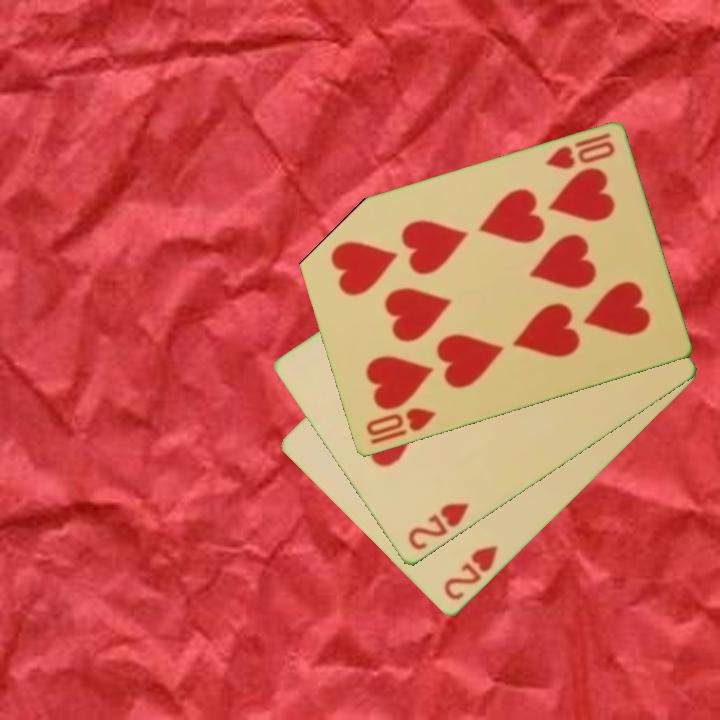10h: (542, 129, 618, 173), (362, 405, 438, 448)
2h: (440, 542, 501, 604), (404, 499, 472, 554)
